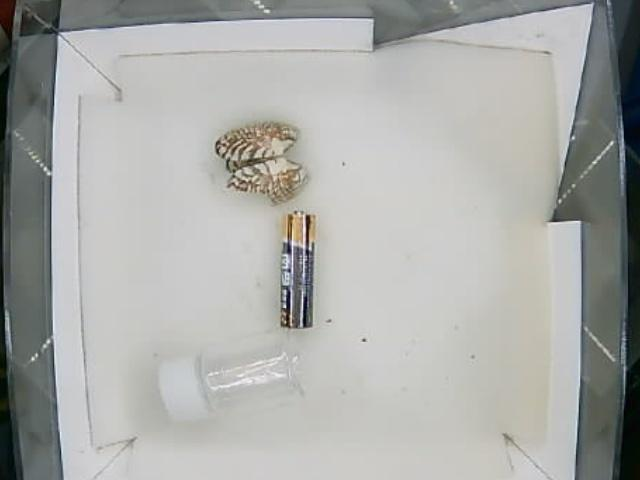Battery: (282, 212, 318, 327)
Bottle: (154, 335, 305, 424)
Shell: (211, 122, 308, 204)
